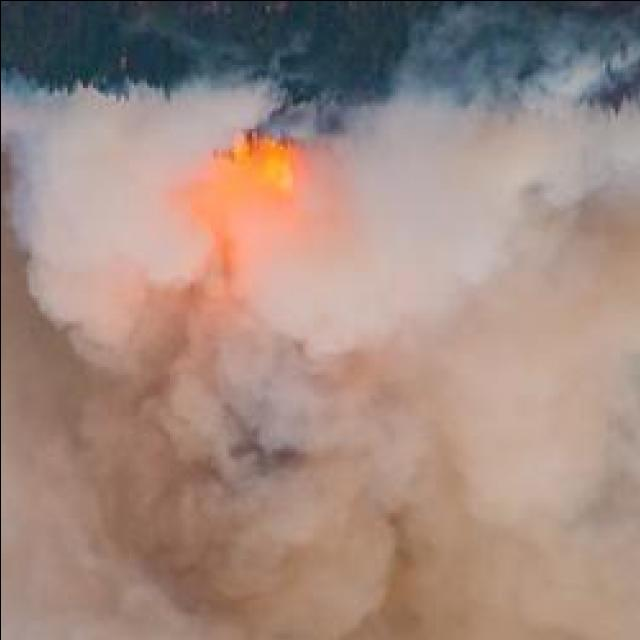fire: (238, 140, 300, 206)
smoke: (58, 350, 400, 636), (330, 100, 640, 346), (0, 98, 227, 366)
